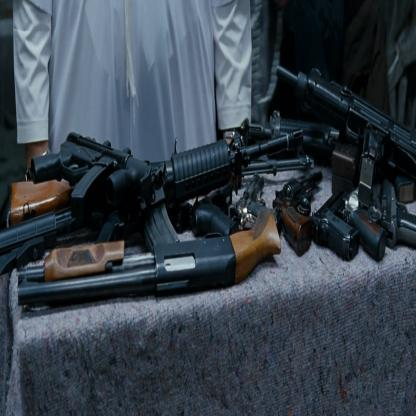gun: (7, 116, 284, 317), (275, 57, 413, 219)
